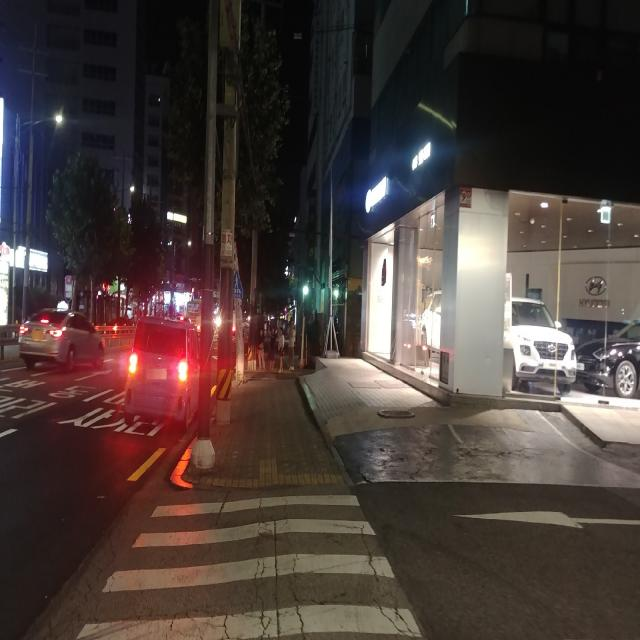횡단보도: (76, 495, 421, 640)
